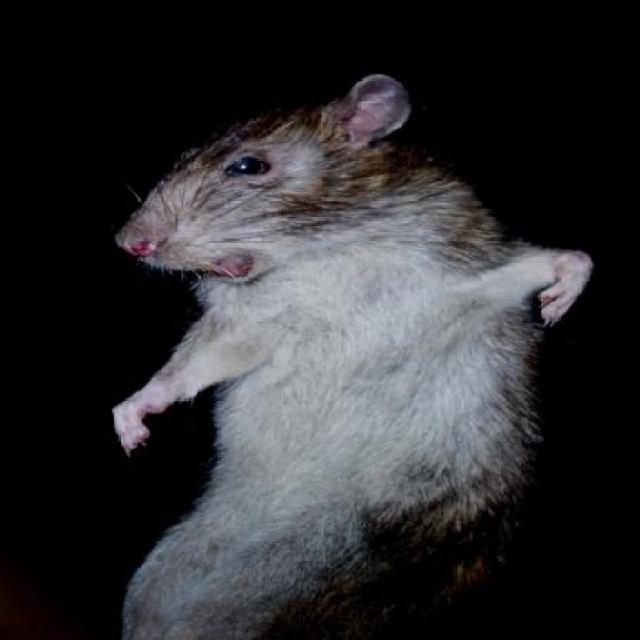Mouse: (88, 66, 596, 640)
